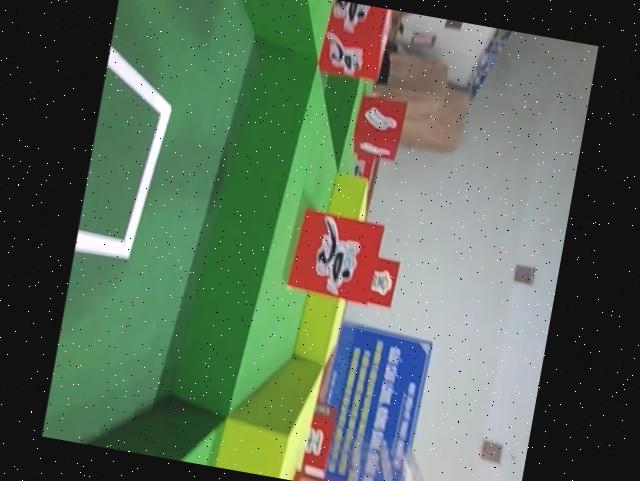R1: (285, 205, 386, 305), (314, 0, 394, 82)
R2 Real: (350, 91, 410, 159)
